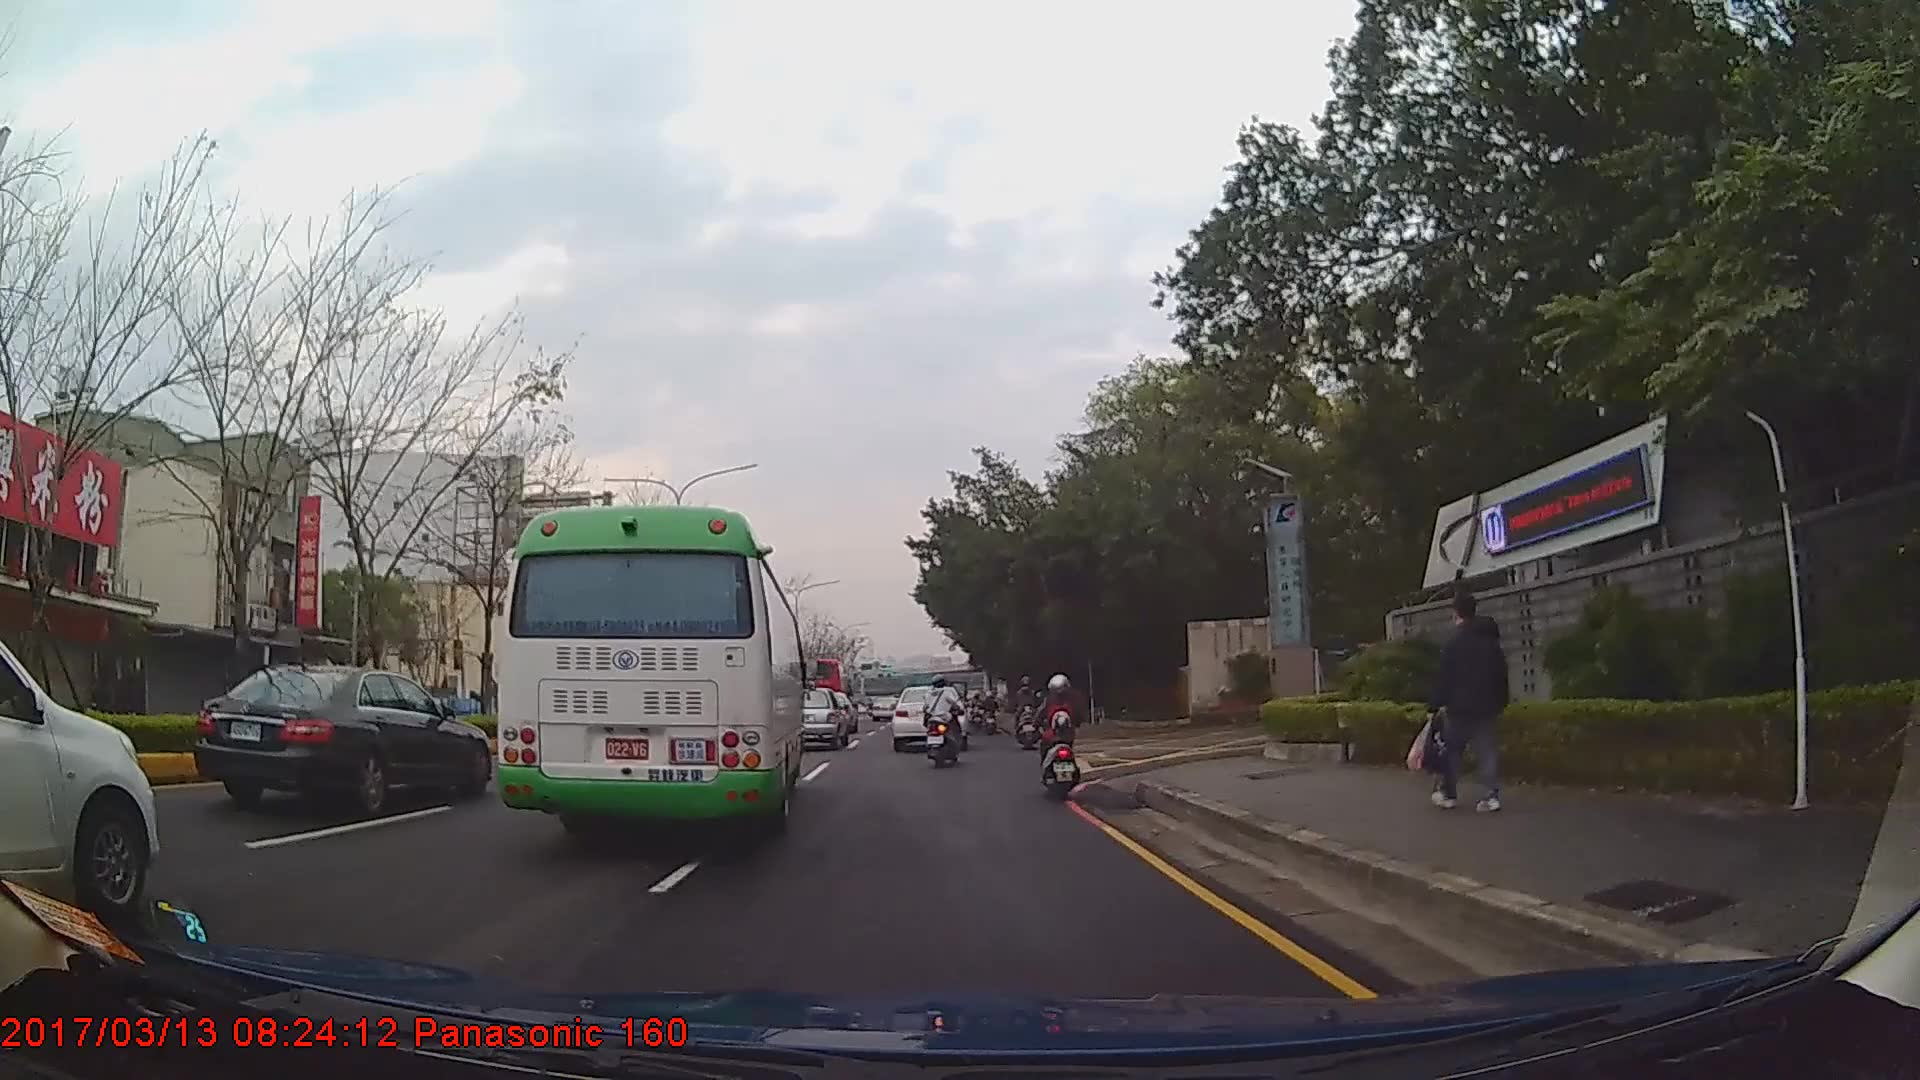pedestrian: (1408, 597, 1508, 814)
rider: (1037, 671, 1078, 797), (924, 676, 965, 765), (1010, 675, 1043, 751), (980, 692, 1000, 726)
vehicle: (496, 505, 803, 845), (191, 663, 492, 816), (0, 636, 158, 916), (892, 683, 965, 752), (800, 687, 849, 748)
